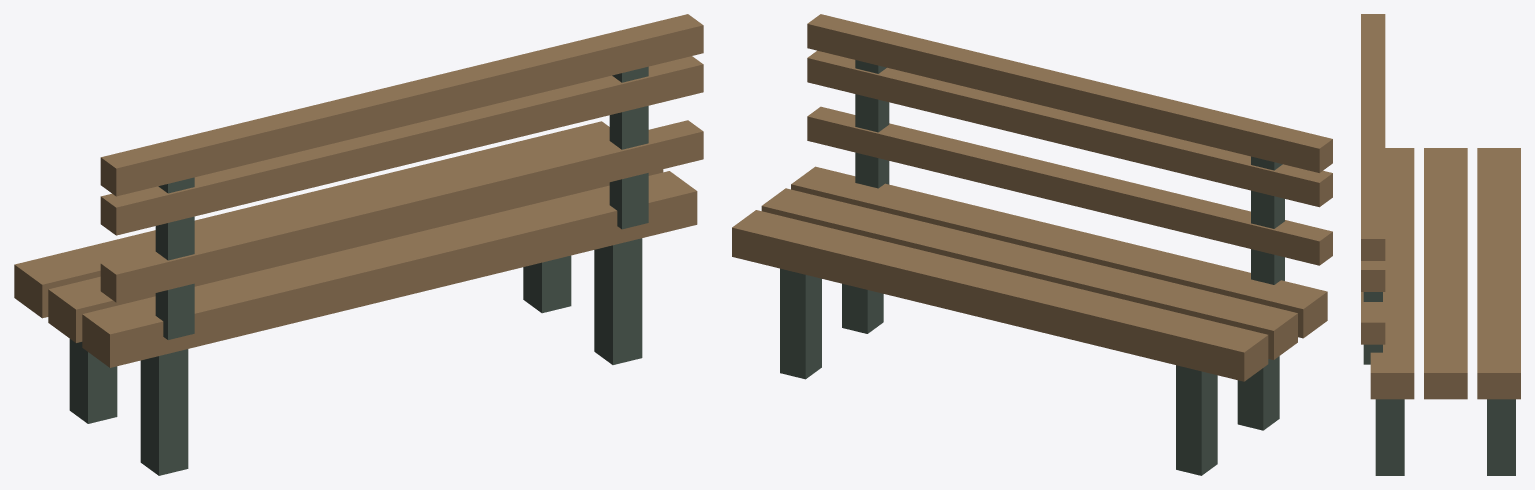
Rendered from street-bench.glb.
3 renders of one model, left to right at view 1: azimuth 30°, elevation 25°; view 2: azimuth 150°, elevation 25°; view 3: azimuth 270°, elevation 25°, orthographic. The views are drawn at different scales.
Parts seen in each view (by area): view 1: street-bench; view 2: street-bench; view 3: street-bench.
Part boxes in pixels (x1=…): street-bench: x1=14, y1=14, x2=703, y2=475; street-bench: x1=732, y1=14, x2=1332, y2=475; street-bench: x1=1361, y1=14, x2=1520, y2=475.
Size of the model in its own units: 2.2 by 1.17 by 0.66.
